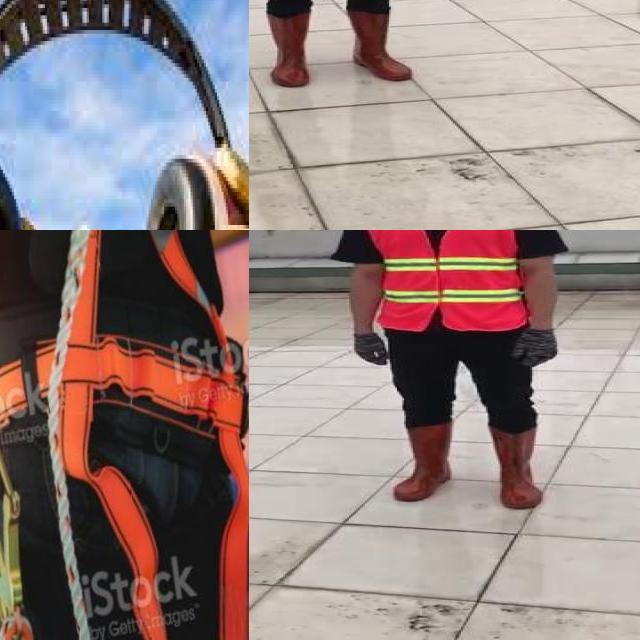Ear-protection: (135, 151, 245, 230)
Harness: (37, 230, 249, 640)
boots: (346, 11, 421, 84), (391, 425, 455, 503), (491, 427, 545, 512), (262, 11, 315, 89)
hand_glove: (507, 330, 557, 368), (356, 332, 392, 368)
head_helmet: (44, 210, 133, 230)
person: (329, 230, 576, 520), (0, 148, 249, 230), (249, 0, 440, 98)
vest: (363, 230, 526, 333)
